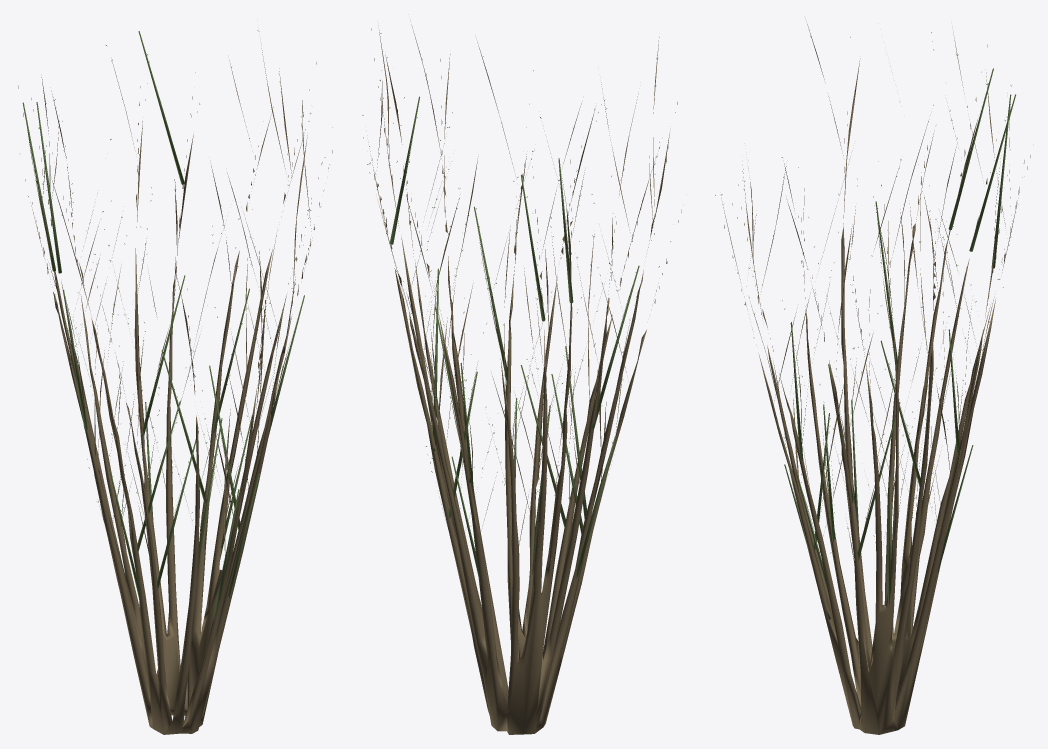
File: BruyereBalais_2_Niveau1.fbx
3 renders of one model, left to right at view 1: azimuth 30°, elevation 25°; view 2: azimuth 150°, elevation 25°; view 3: azimuth 270°, elevation 25°, orthographic. The views are drawn at different scales.
Parts seen in each view (by area): view 1: BruyereBalais_2_Niveau1; view 2: BruyereBalais_2_Niveau1; view 3: BruyereBalais_2_Niveau1.
Boxes of the visible parts, box(x1,y1,x2,y2) form: BruyereBalais_2_Niveau1: box(18, 30, 332, 734); BruyereBalais_2_Niveau1: box(362, 25, 681, 734); BruyereBalais_2_Niveau1: box(715, 24, 1030, 734).
Size of the model in its own units: 73.52 by 168 by 72.24.
